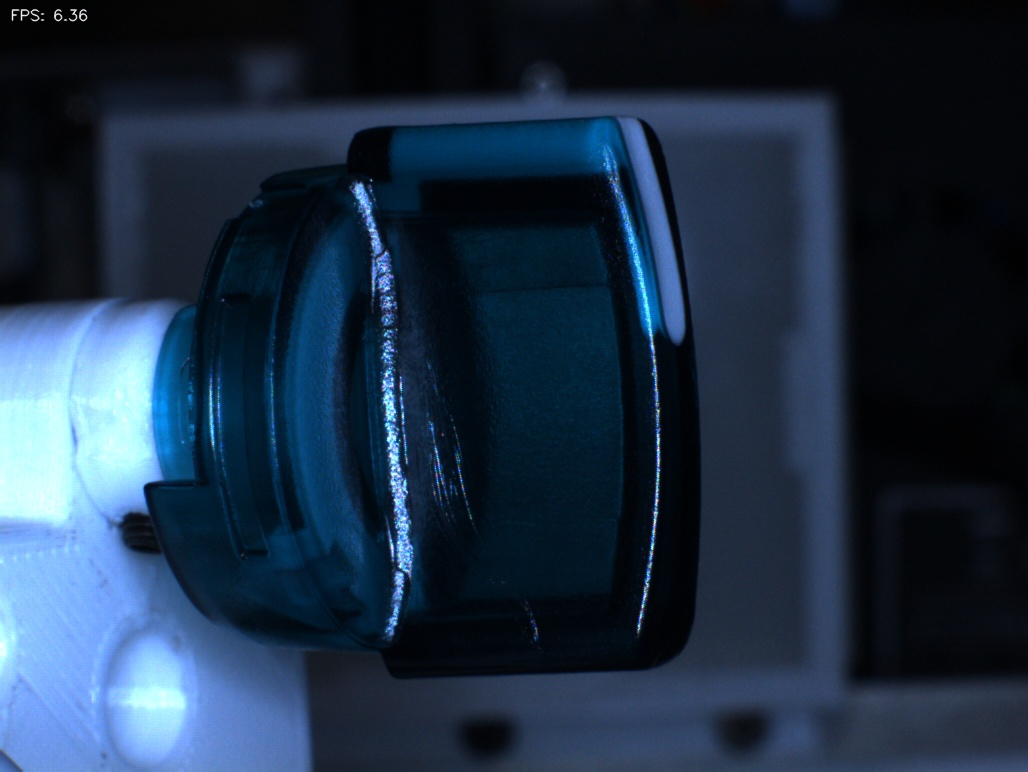Givrage: (411, 348, 489, 550), (463, 564, 551, 651)
